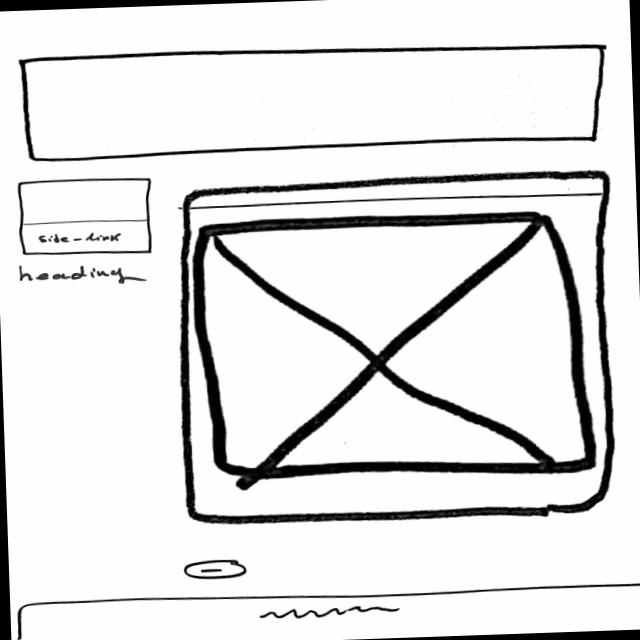container: (174, 171, 621, 531), (20, 37, 609, 162), (15, 176, 156, 258)
icon-button: (183, 558, 250, 581)
image: (194, 208, 600, 487)
label: (14, 262, 150, 290), (36, 232, 123, 248)
text: (258, 604, 404, 622)
